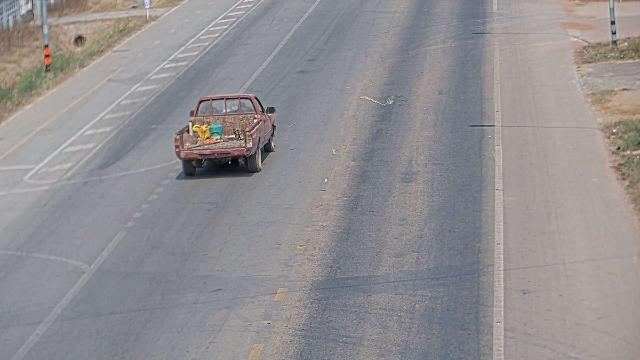pickup-truck: (173, 93, 277, 176)
